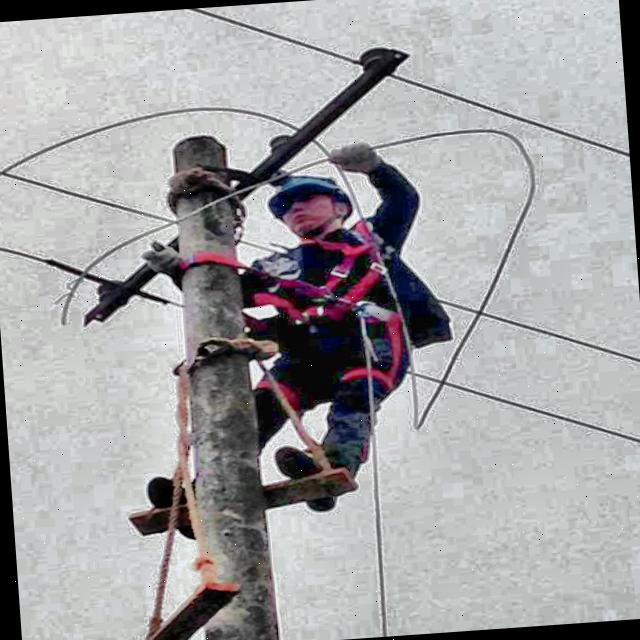helmet: (255, 154, 373, 248)
